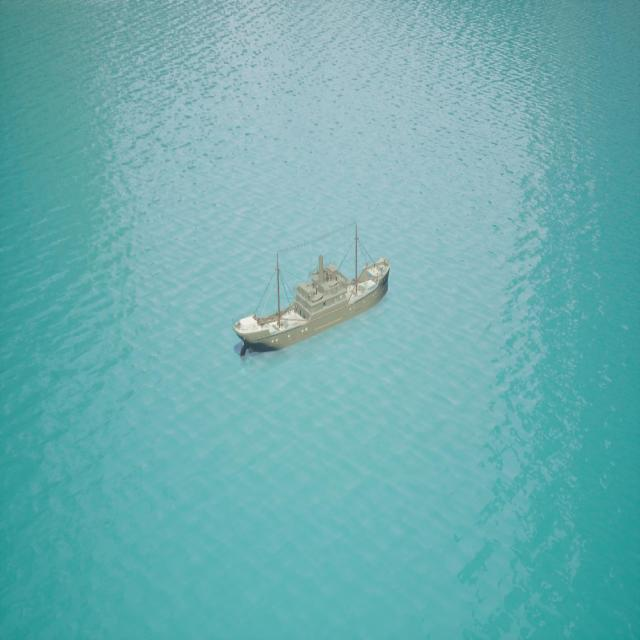fishing ship: (235, 248, 391, 358)
